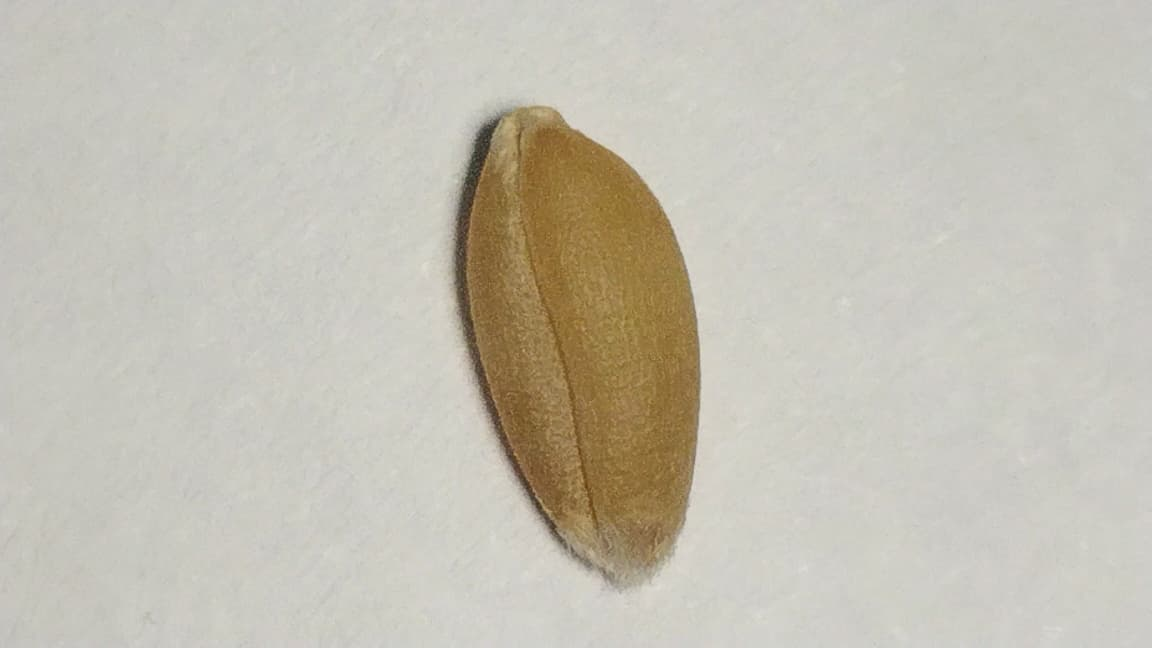healthy: (466, 106, 700, 543)
